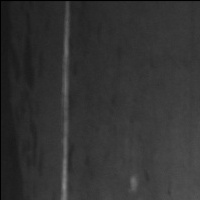scratches: (56, 1, 75, 200)
